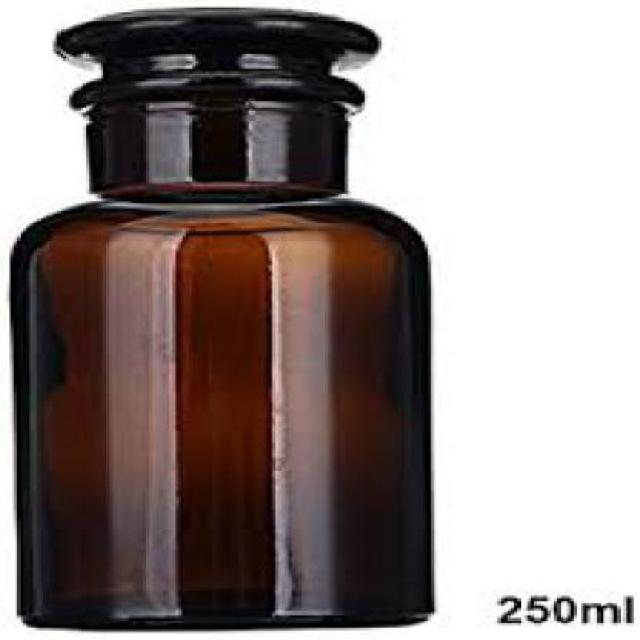kaca: (3, 8, 431, 630)
